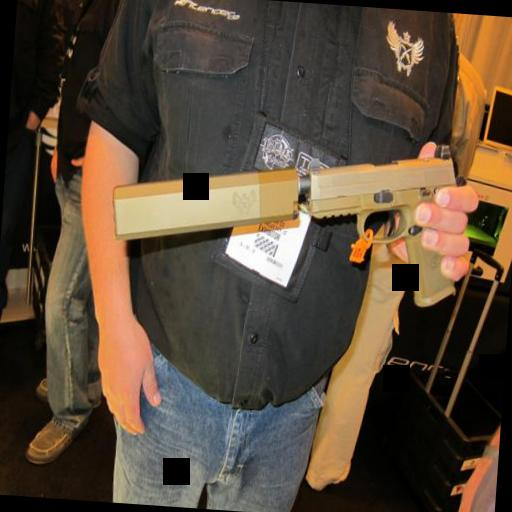Handgun: (289, 120, 474, 316)
